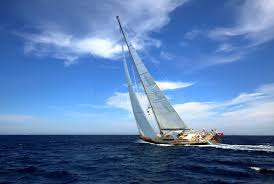boat: (115, 15, 227, 150)
